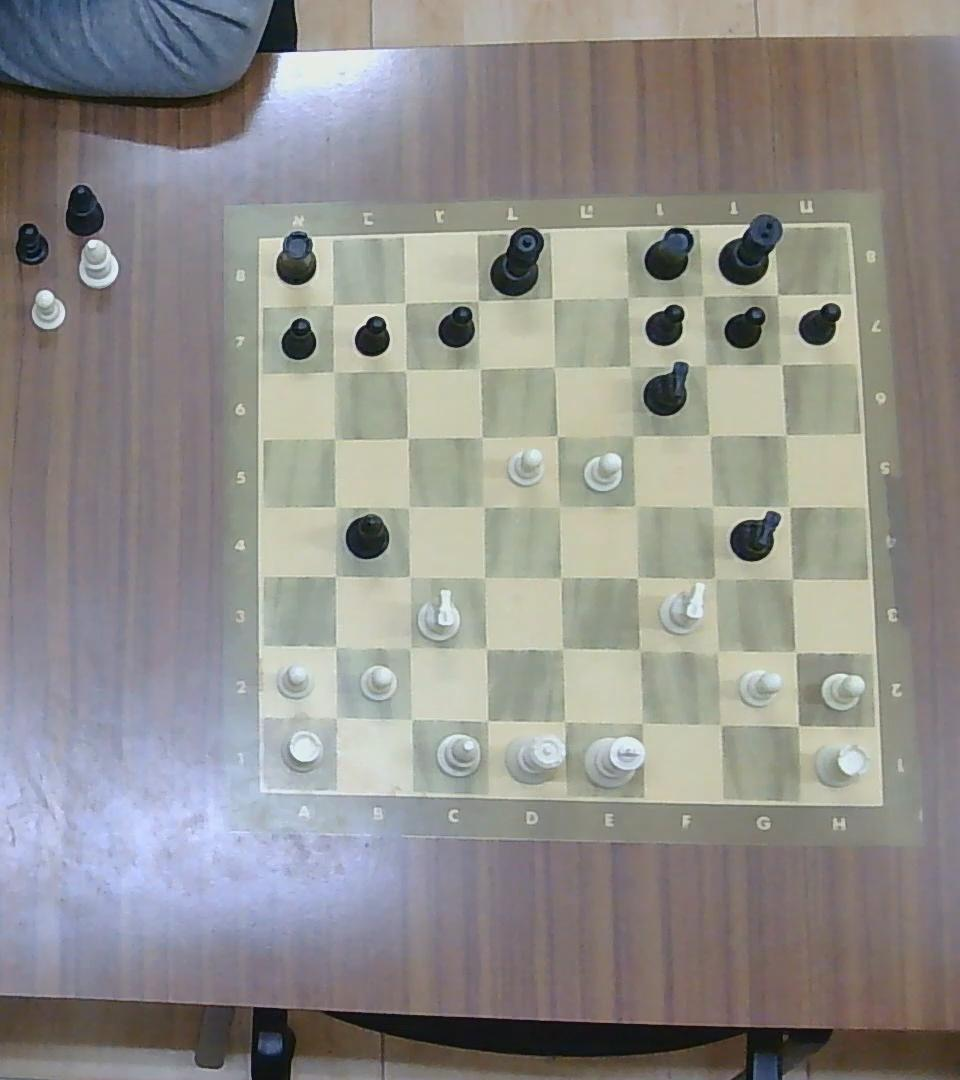xcorner: (702, 705, 737, 739), (624, 705, 658, 738), (624, 633, 656, 665), (546, 633, 578, 665), (781, 709, 813, 741), (701, 636, 734, 666), (470, 703, 501, 734), (621, 561, 652, 592), (548, 704, 578, 736), (395, 703, 425, 734), (320, 701, 350, 732), (780, 636, 811, 666), (320, 631, 350, 661), (470, 633, 501, 662), (545, 562, 574, 591), (394, 633, 423, 662), (469, 491, 498, 520), (470, 562, 499, 591), (699, 564, 728, 593), (394, 562, 423, 591), (545, 491, 573, 520), (320, 561, 349, 589), (622, 490, 651, 518), (617, 421, 646, 449), (776, 565, 806, 592), (543, 421, 571, 449), (616, 352, 645, 379), (540, 352, 567, 379), (774, 491, 802, 517), (699, 491, 726, 517), (318, 292, 345, 318), (395, 493, 423, 518), (540, 285, 566, 311), (468, 421, 493, 448), (394, 424, 420, 449), (696, 421, 722, 446), (319, 358, 345, 383), (321, 424, 347, 449), (323, 493, 349, 518), (615, 284, 641, 309), (465, 288, 491, 312), (768, 350, 793, 374), (693, 352, 718, 376), (467, 355, 491, 380), (393, 357, 417, 381), (391, 290, 415, 313), (691, 283, 714, 307), (773, 422, 797, 444), (767, 284, 788, 305)
